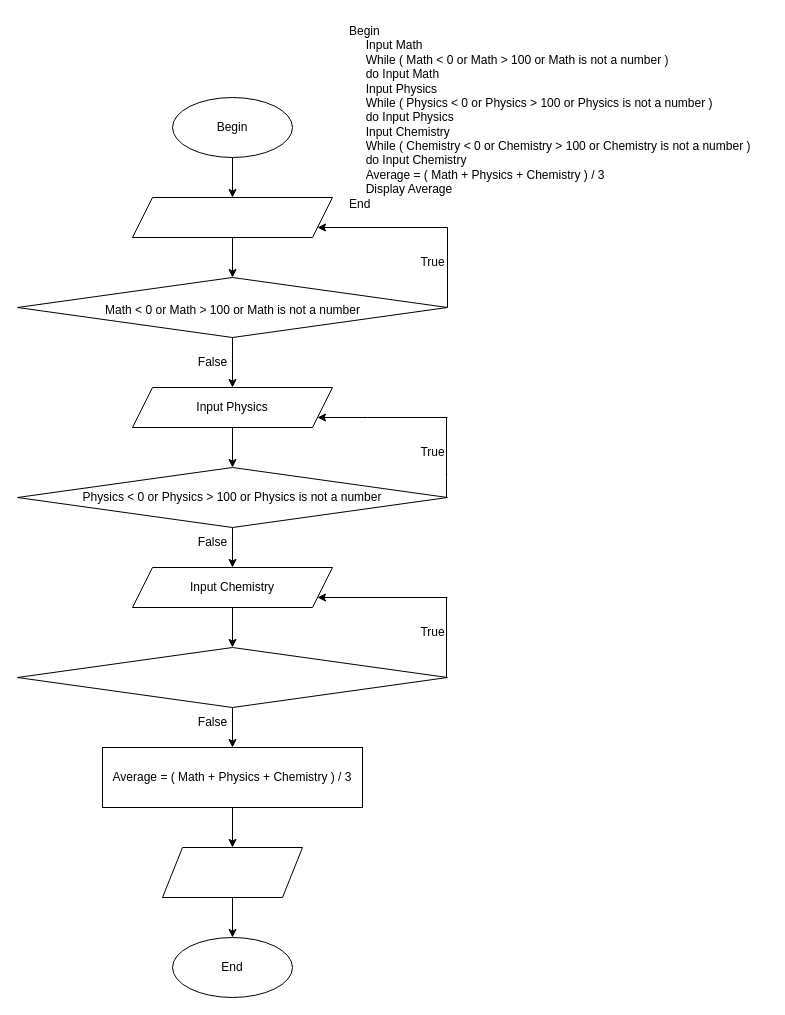
The diagram is 785 pixels wide and 1015 high, and some of its shapes have lost their labels. The box of each missing label's shape, as (x1, y1, x2, y2) in pixels:
Chemistry < 0 or Chemistry > 100 or Chemistry is not a number: (16, 646, 448, 708)
Display Average: (162, 846, 302, 898)
Input Math: (132, 196, 332, 238)
